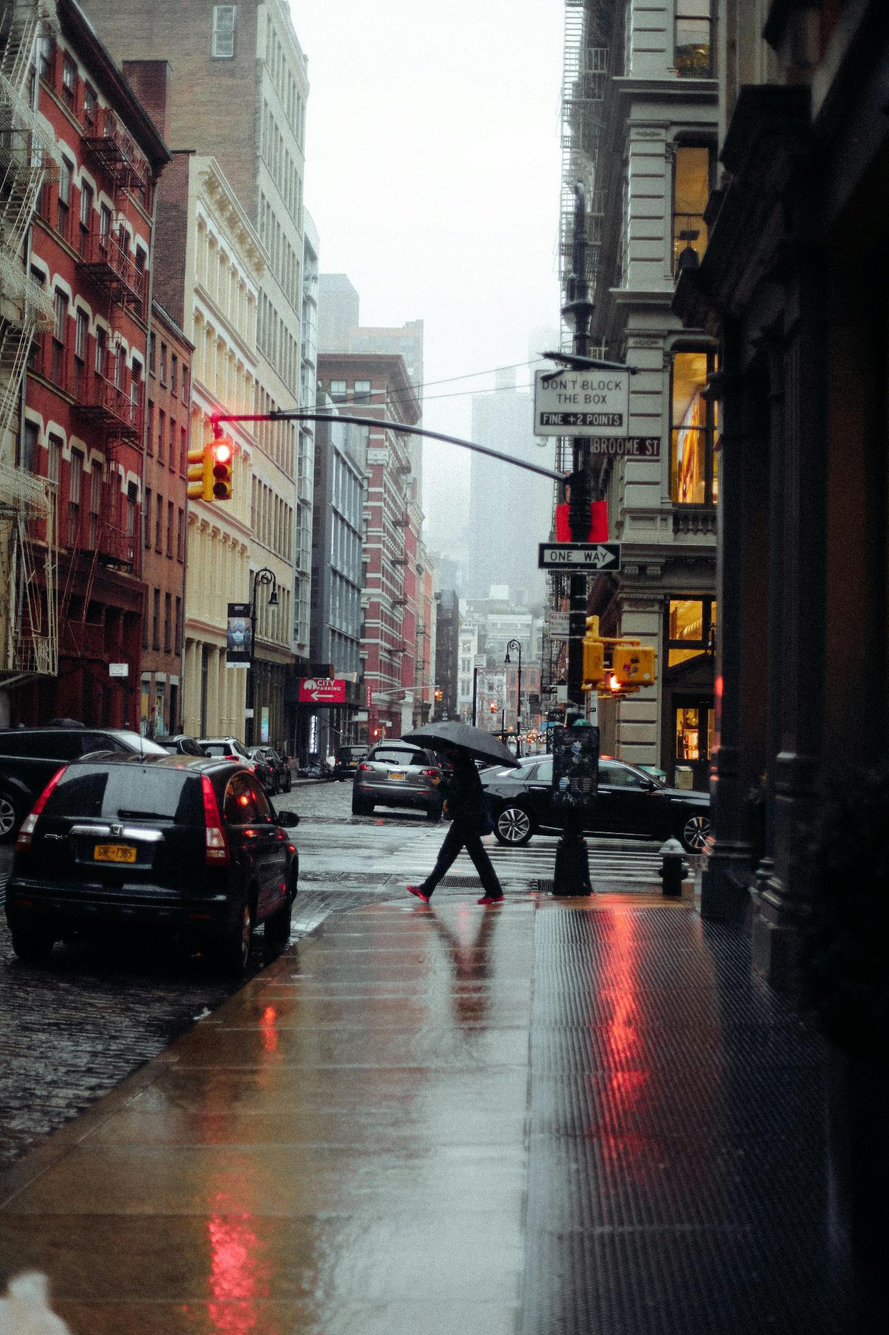car: (0, 758, 295, 984), (2, 721, 172, 850), (478, 753, 710, 846), (353, 740, 449, 820), (245, 746, 291, 794), (329, 744, 369, 779)
pedestrian: (405, 742, 505, 909)
